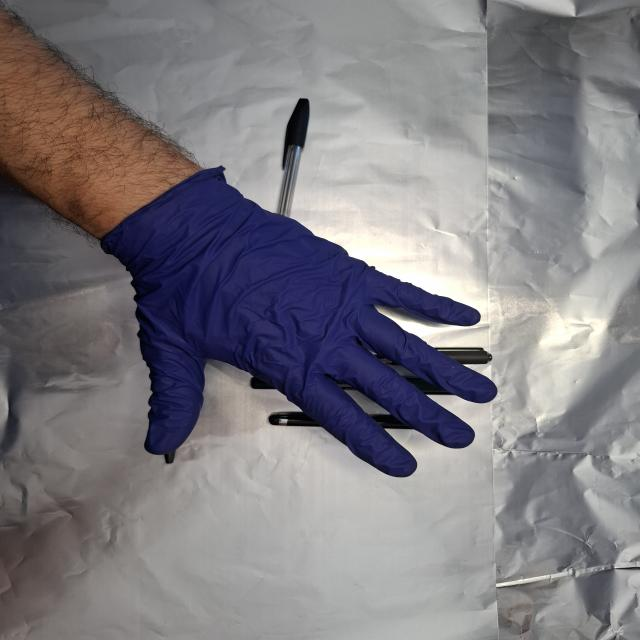glove_on: (101, 168, 500, 480)
